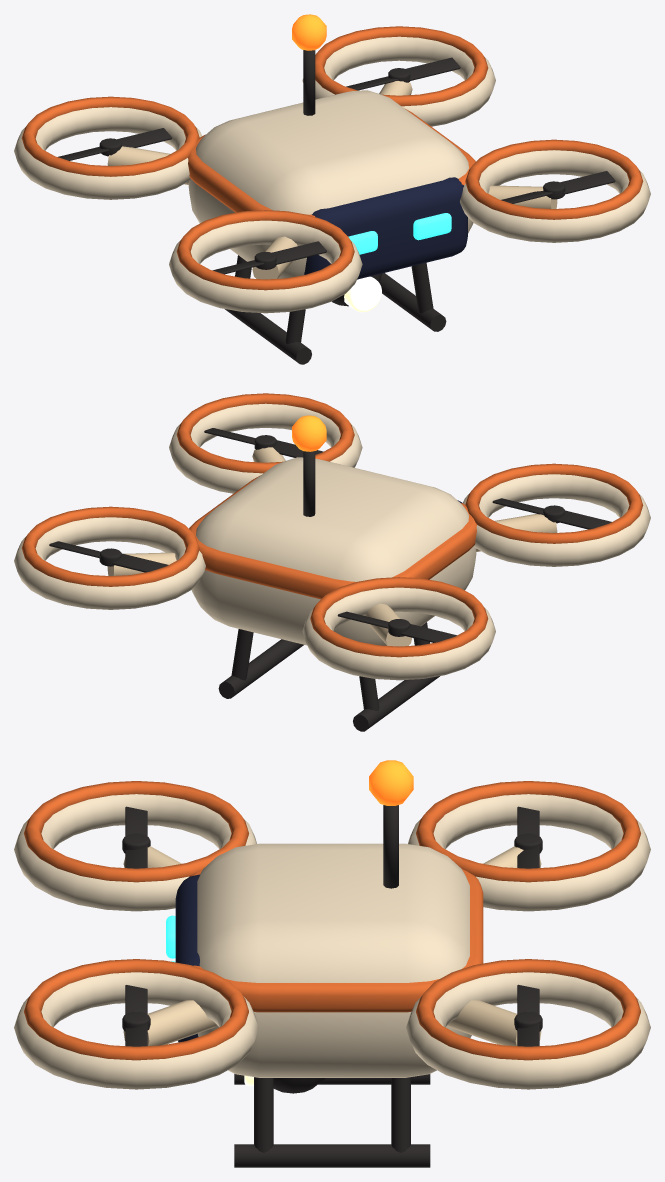
Rendered from echo-3.glb.
The picture shows the model from 3 angles, top to bottom: view 1: azimuth 30°, elevation 25°; view 2: azimuth 150°, elevation 25°; view 3: azimuth 270°, elevation 25°; orthographic projection. The views are drawn at different scales.
Parts seen in each view (by area): view 1: body, rotor_4, rotor_2, rotor_1, rotor_3; view 2: body, rotor_1, rotor_3, rotor_4, rotor_2; view 3: body, rotor_1, rotor_2, rotor_4, rotor_3.
Boxes of the visible parts, <box> form: body: <box>14,14,650,364</box>; rotor_4: <box>213,241,326,274</box>; rotor_2: <box>501,171,615,203</box>; rotor_1: <box>346,57,460,90</box>; rotor_3: <box>58,128,171,160</box>; body: <box>14,393,650,731</box>; rotor_1: <box>49,541,168,572</box>; rotor_3: <box>337,611,456,642</box>; rotor_4: <box>492,498,611,529</box>; rotor_2: <box>204,428,323,457</box>; body: <box>14,760,650,1167</box>; rotor_1: <box>514,984,542,1046</box>; rotor_2: <box>122,985,150,1046</box>; rotor_4: <box>122,806,150,868</box>; rotor_3: <box>514,806,542,868</box>.
Size of the model in its own units: 0.68 by 0.409 by 0.65.
